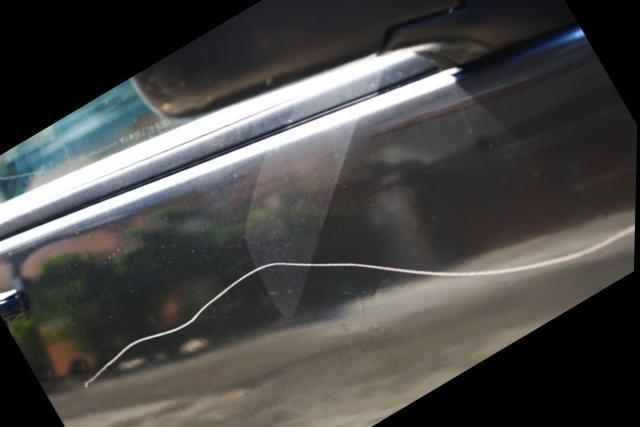scratch: (79, 220, 636, 391)
